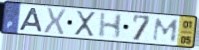7: (131, 13, 153, 42)
A: (17, 7, 44, 34)
H: (96, 12, 125, 40)
M: (151, 17, 181, 43)
X: (42, 7, 68, 36), (74, 10, 98, 38)
